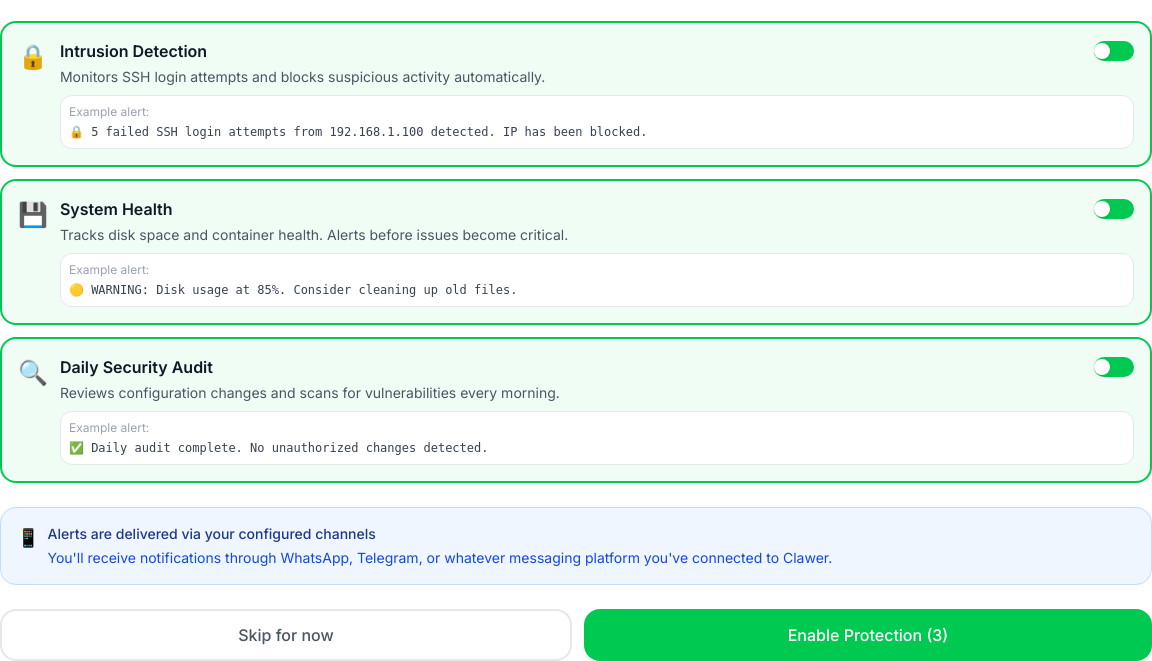
Test case: SecuritySetup › should show error message on setup failure
Click the button "Enable Protection (3)": (868, 635) [584,609,1151,660]
(page scrolled)
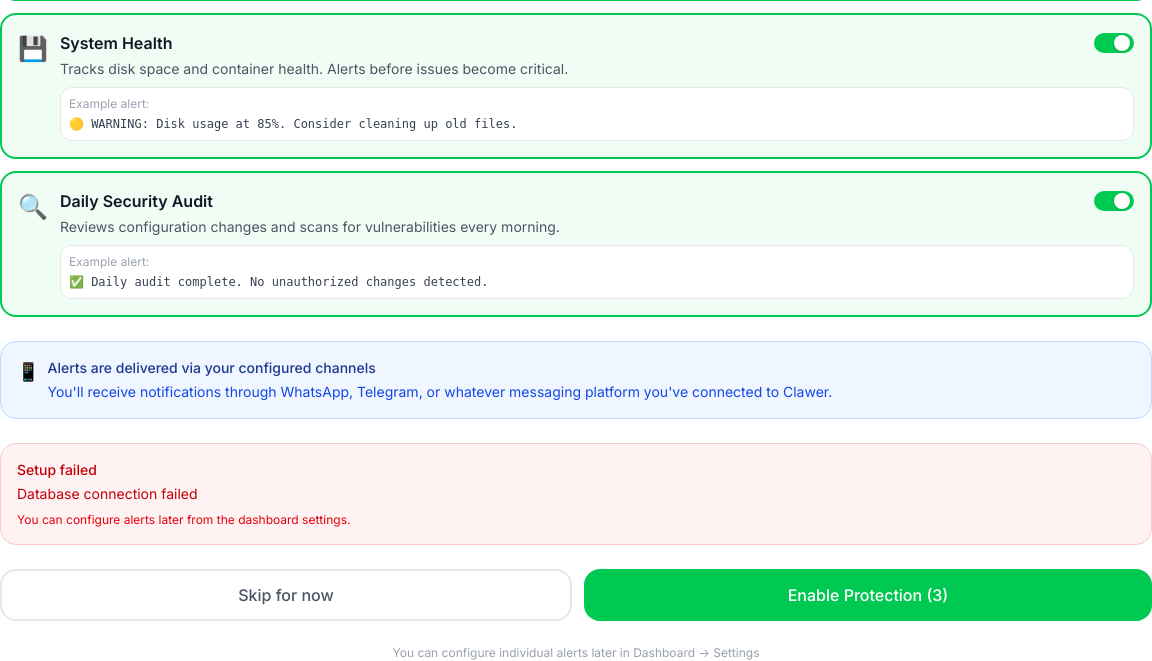
Result: the text "Setup failed" is shown at [17,461,97,478]
Result: the text "Database connection failed" is shown at [17,485,198,502]
